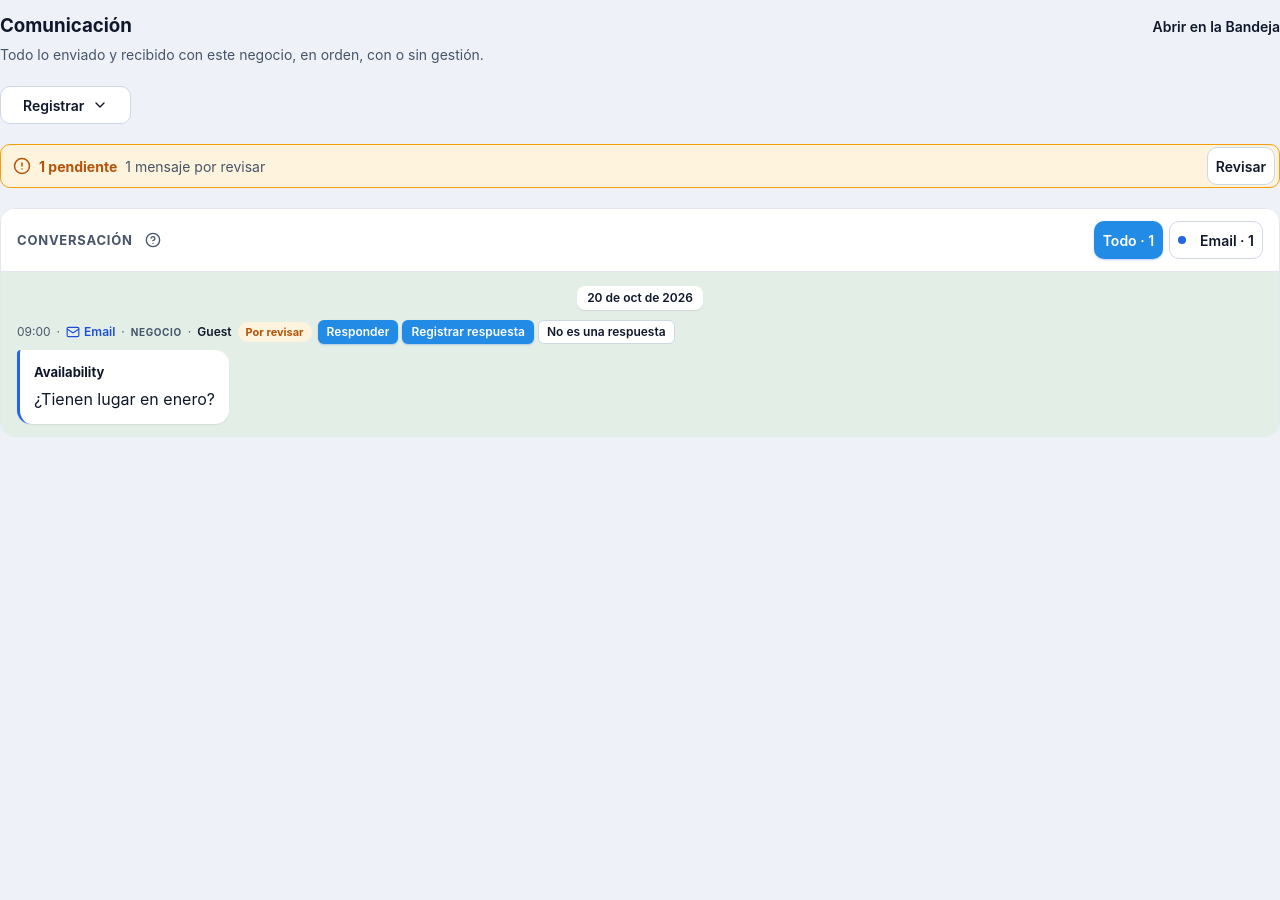
Scenario: inbound actions in Comunicación › registers the inbound message as a response with its category and summary
Click the button "Registrar respuesta": [468, 332] box x1=402 y1=320 x2=534 y2=344
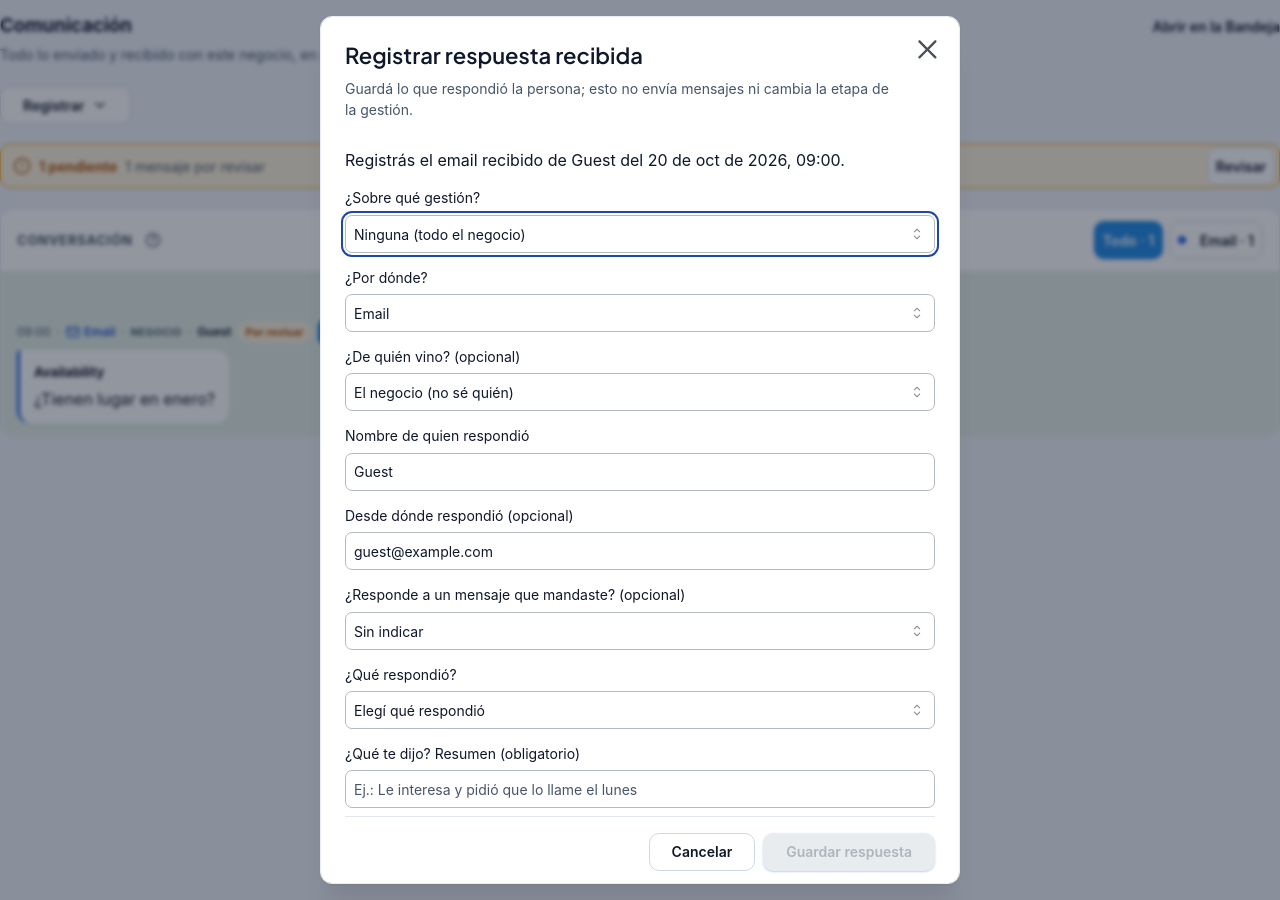
Expected: the text "Registrás el email recibido de Guest" is shown, x1=345 y1=150 x2=845 y2=170
Select "Respondió, le interesa" in the dropdown labelled "¿Qué respondió?": [640, 710] box x1=345 y1=691 x2=935 y2=729
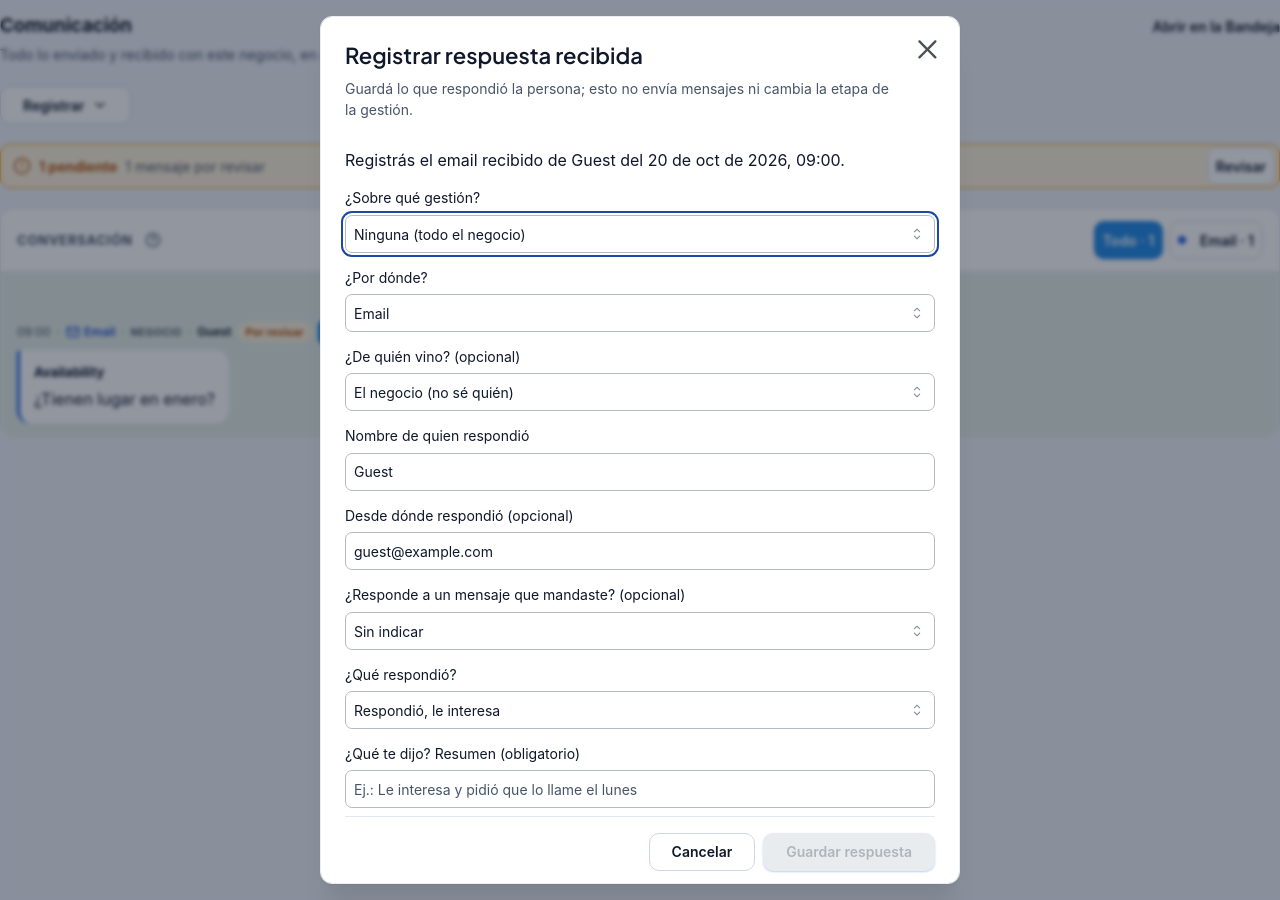
In the field labelled "¿Qué te dijo? Resumen (obligatorio)": [640, 789] box x1=345 y1=770 x2=935 y2=808, type "  Pide precios para enero  "
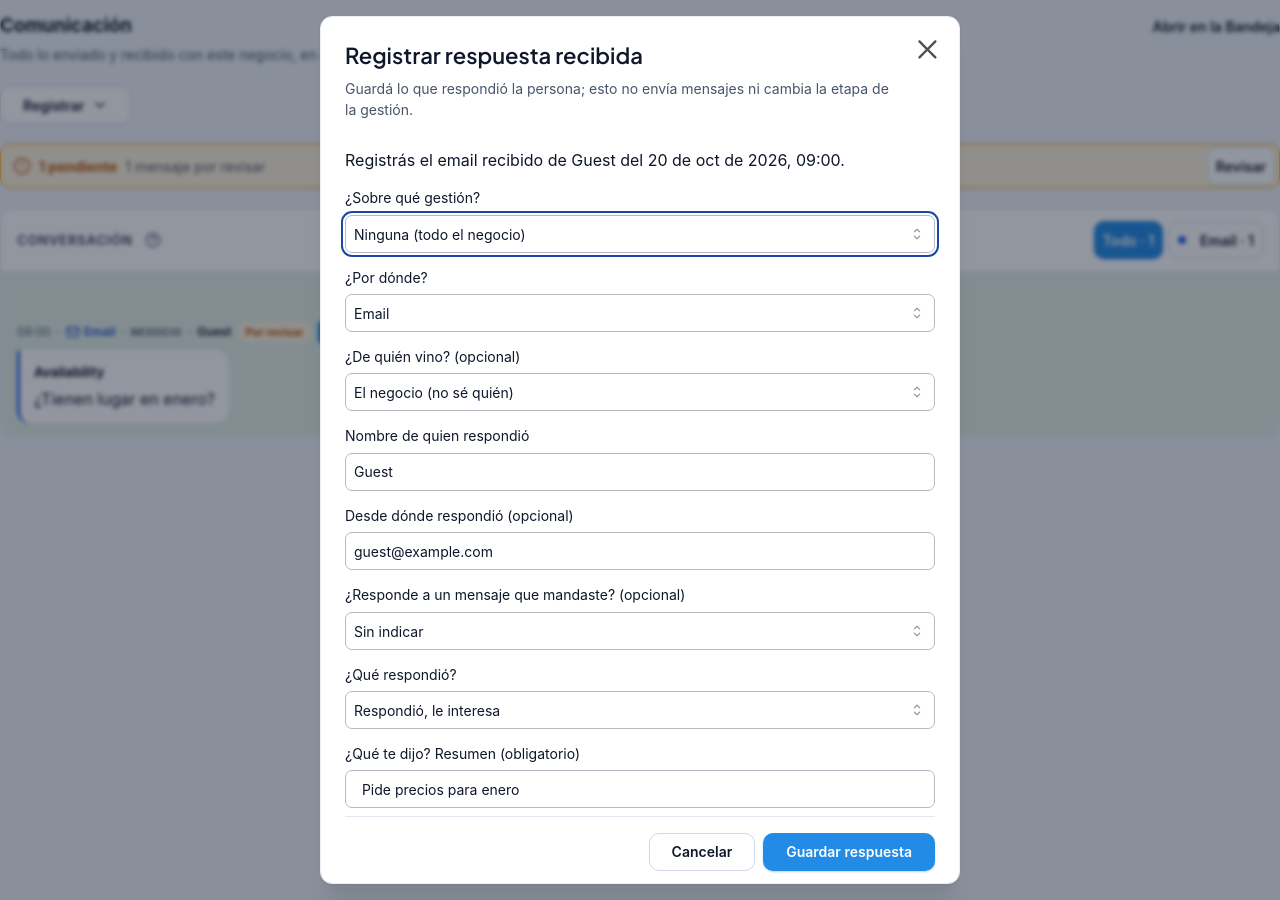
Click the button "Guardar respuesta": [849, 852] box x1=763 y1=833 x2=935 y2=871
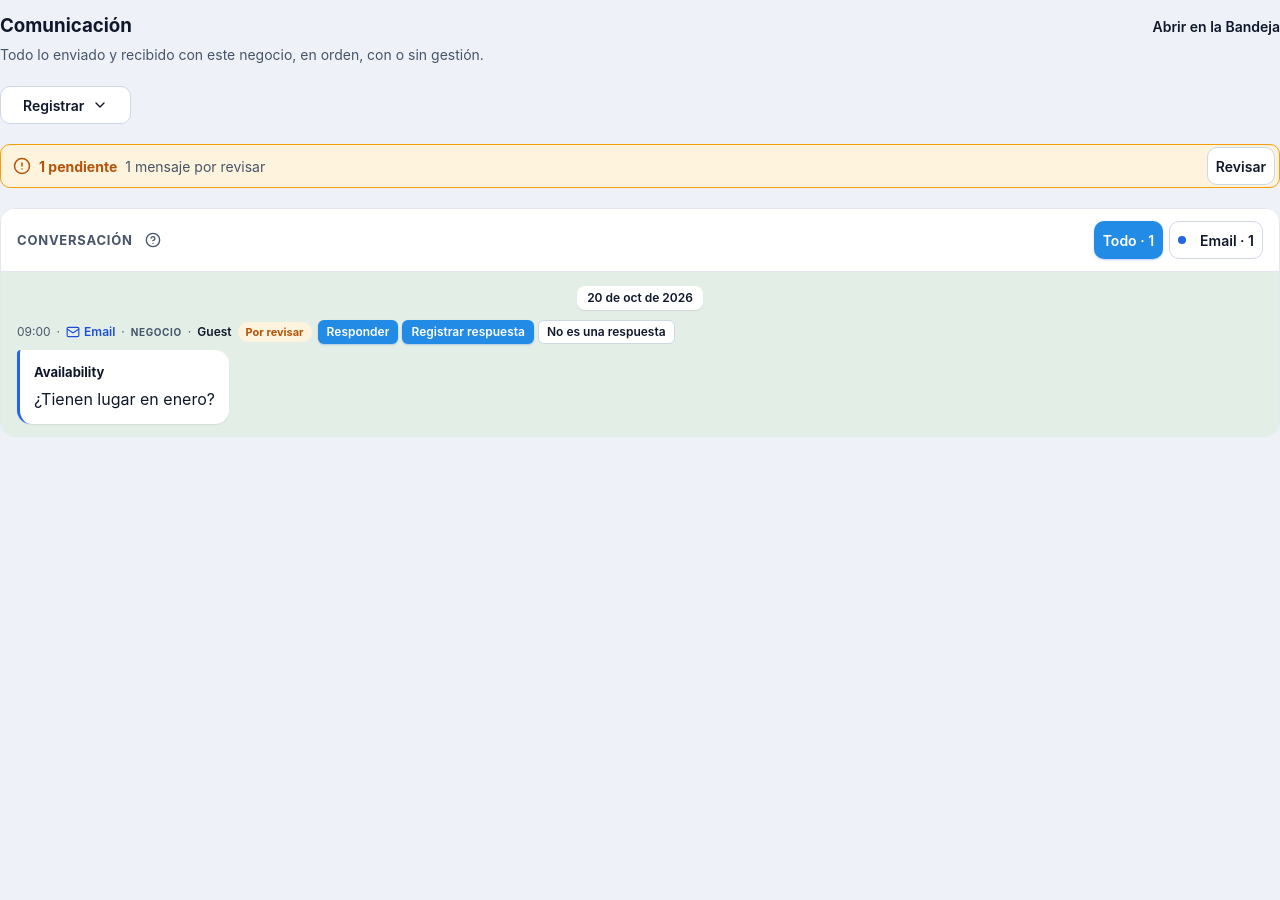
Expected: the text "Registrás el email recibido" is gone
